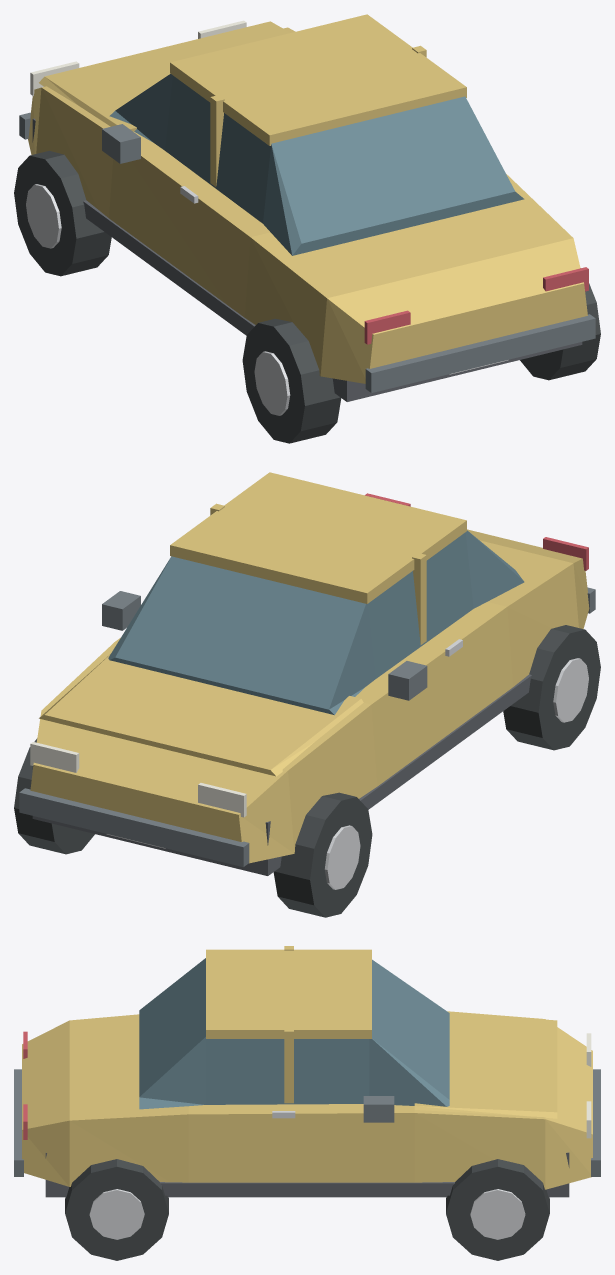
3 renders of one model, top to bottom at view 1: azimuth 30°, elevation 25°; view 2: azimuth 150°, elevation 25°; view 3: azimuth 270°, elevation 25°, orthographic. The views are drawn at different scales.
Parts seen in each view (by area): view 1: body_0001, cab_glass_0022, roof_0023, wheel_tire_0006, hood_0002, wheel_tire_0004, bumper_0027, lower_sill_0012, wheel_tire_0015, wheel_rim_0007, wheel_rim_0005, chassis_0000 (+4 smaller); view 2: body_0001, cab_glass_0022, roof_0023, hood_0002, wheel_tire_0004, wheel_tire_0006, bumper_0026, lower_sill_0012, wheel_tire_0013, wheel_rim_0007, wheel_rim_0005, chassis_0000 (+6 smaller); view 3: body_0001, cab_glass_0022, roof_0023, hood_0002, wheel_tire_0013, wheel_tire_0015, lower_sill_0021, wheel_rim_0014, wheel_rim_0016, chassis_0000, bumper_0026, bumper_0027 (+2 smaller).
Part boxes in pixels (<box>): body_0001: <box>28,27,587,383</box>; cab_glass_0022: <box>109,74,524,255</box>; roof_0023: <box>170,14,466,145</box>; wheel_tire_0006: <box>242,318,341,443</box>; hood_0002: <box>39,21,290,131</box>; wheel_tire_0004: <box>14,150,111,276</box>; bumper_0027: <box>365,314,595,392</box>; lower_sill_0012: <box>83,200,255,335</box>; wheel_tire_0015: <box>520,283,600,380</box>; wheel_rim_0007: <box>254,351,290,415</box>; wheel_rim_0005: <box>26,184,61,248</box>; chassis_0000: <box>32,118,582,401</box>; body_0001: <box>30,529,589,863</box>; cab_glass_0022: <box>108,530,524,715</box>; roof_0023: <box>170,472,466,603</box>; hood_0002: <box>39,654,363,776</box>; wheel_tire_0004: <box>273,792,372,917</box>; wheel_tire_0006: <box>503,625,600,750</box>; bumper_0026: <box>19,788,249,867</box>; lower_sill_0012: <box>359,674,531,809</box>; wheel_tire_0013: <box>14,738,94,854</box>; wheel_rim_0007: <box>553,658,588,722</box>; wheel_rim_0005: <box>324,825,360,889</box>; chassis_0000: <box>32,766,281,875</box>; body_0001: <box>22,1011,592,1189</box>; cab_glass_0022: <box>139,958,449,1109</box>; roof_0023: <box>206,949,371,1038</box>; hood_0002: <box>414,1012,557,1118</box>; wheel_tire_0013: <box>446,1159,549,1260</box>; wheel_tire_0015: <box>65,1159,168,1260</box>; lower_sill_0021: <box>160,1182,454,1195</box>; wheel_rim_0014: <box>470,1189,525,1239</box>; wheel_rim_0016: <box>89,1189,144,1239</box>; chassis_0000: <box>45,1152,569,1197</box>; bumper_0026: <box>591,1069,600,1176</box>; bumper_0027: <box>14,1069,23,1176</box>.
Bounding box in the file's own units: 1.93 × 1.53 × 3.84.
